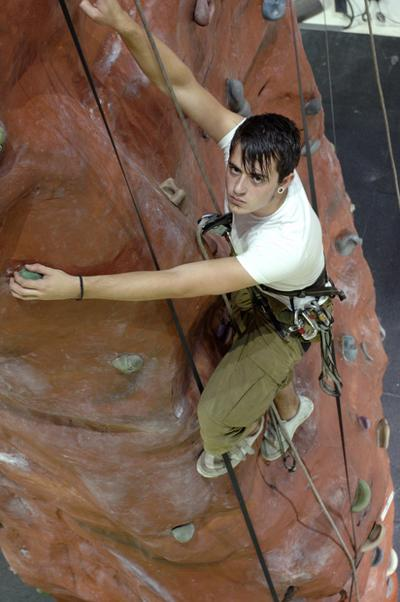person: (10, 1, 338, 483)
